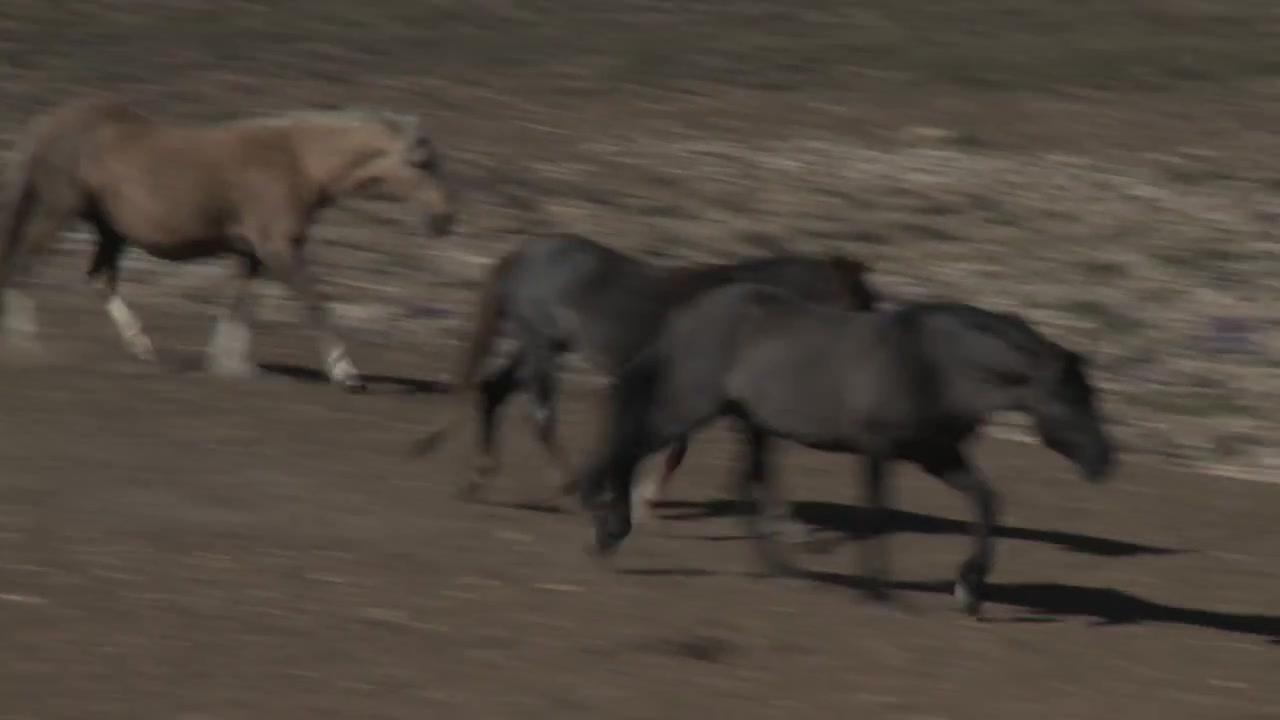horse: (561, 281, 1122, 614), (392, 228, 887, 515), (1, 97, 463, 394)
